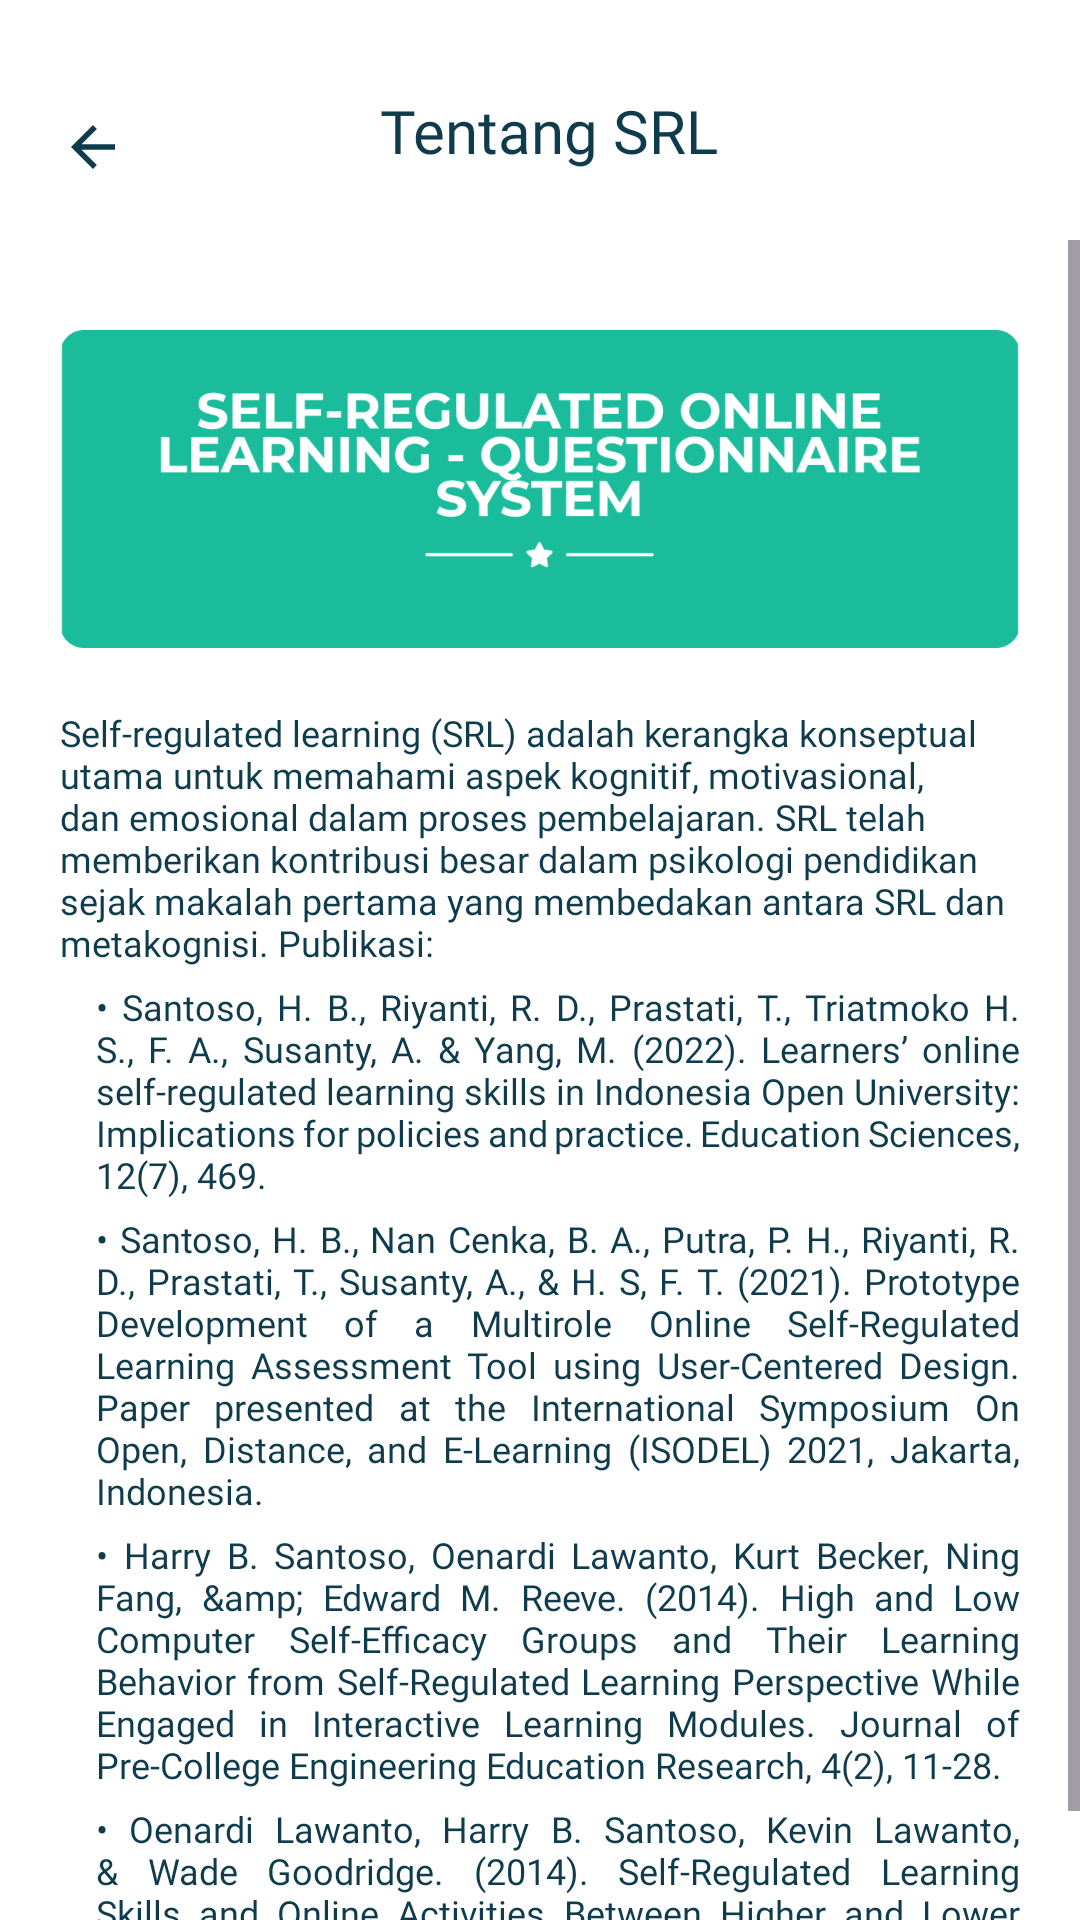

Screen size 1080 x 1920. Icon name, then its box in pixels as (x1, y1, x2, y2):
arrow back: (71, 125, 115, 169)
